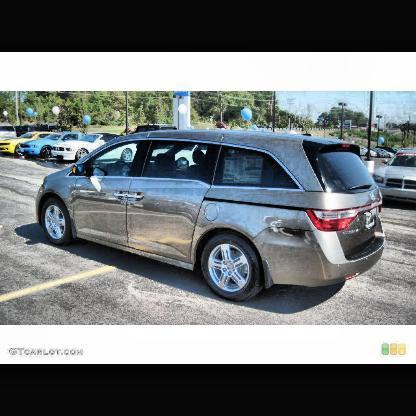Honda Odyssey Minivan 2012: (34, 123, 387, 307)
